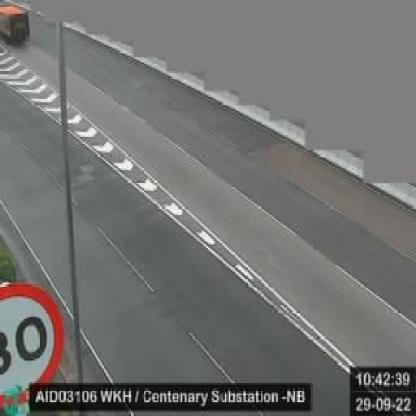Truck: (0, 0, 34, 50)
